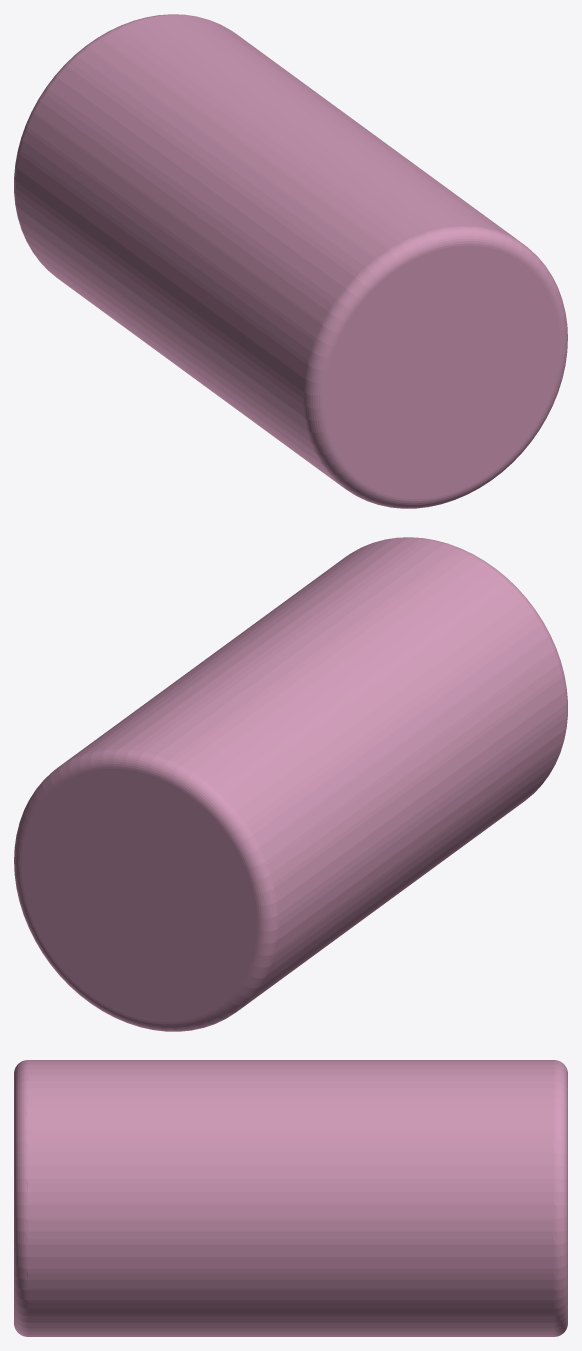
File: case-03_lib00007.glb
3 views of the same model, one above another, from view 1: azimuth 30°, elevation 25°; view 2: azimuth 150°, elevation 25°; view 3: azimuth 270°, elevation 25° (orthographic). The views are drawn at different scales.
Parts seen in each view (by area): view 1: lib00007; view 2: lib00007; view 3: lib00007.
Part boxes in pixels (bbox=[...]): lib00007: bbox=[14, 14, 567, 508]; lib00007: bbox=[14, 537, 567, 1031]; lib00007: bbox=[14, 1060, 567, 1336].
Bounding box in the file's own units: 39 × 38.99 × 78.
